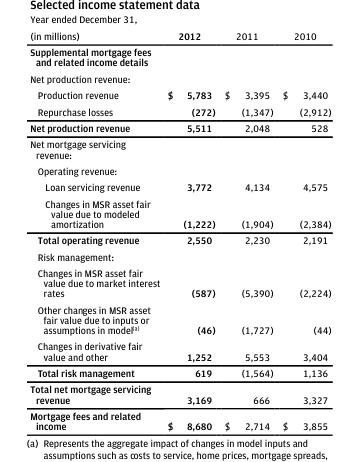table: (29, 29, 330, 431)
table column: (29, 29, 163, 431), (219, 29, 277, 431), (163, 29, 219, 431), (277, 29, 330, 431)
table column header: (29, 29, 330, 43)
table projected row header: (29, 135, 330, 162), (29, 43, 330, 69), (29, 69, 330, 86), (29, 247, 330, 264), (29, 162, 330, 178)
table row: (29, 194, 330, 231), (29, 264, 330, 301), (29, 301, 330, 337), (29, 135, 330, 162), (29, 337, 330, 364), (29, 380, 330, 407), (29, 43, 330, 69), (29, 407, 330, 431), (29, 69, 330, 86), (29, 102, 330, 119), (29, 247, 330, 264), (29, 86, 330, 102), (29, 119, 330, 135), (29, 162, 330, 178), (29, 178, 330, 194), (29, 231, 330, 247), (29, 364, 330, 380), (29, 29, 330, 43)
